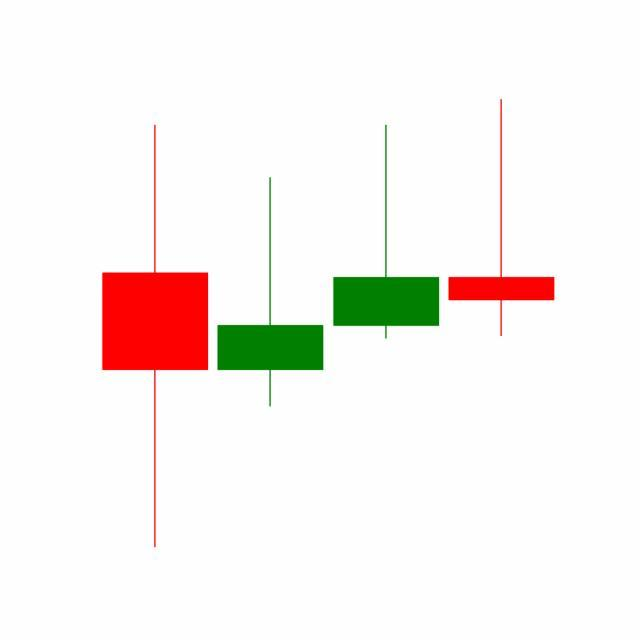Gravestone Doji: (329, 123, 445, 342)
